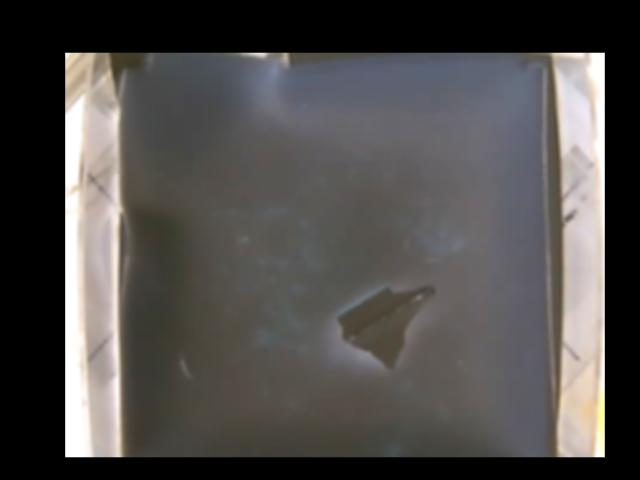China: (335, 280, 435, 367)
